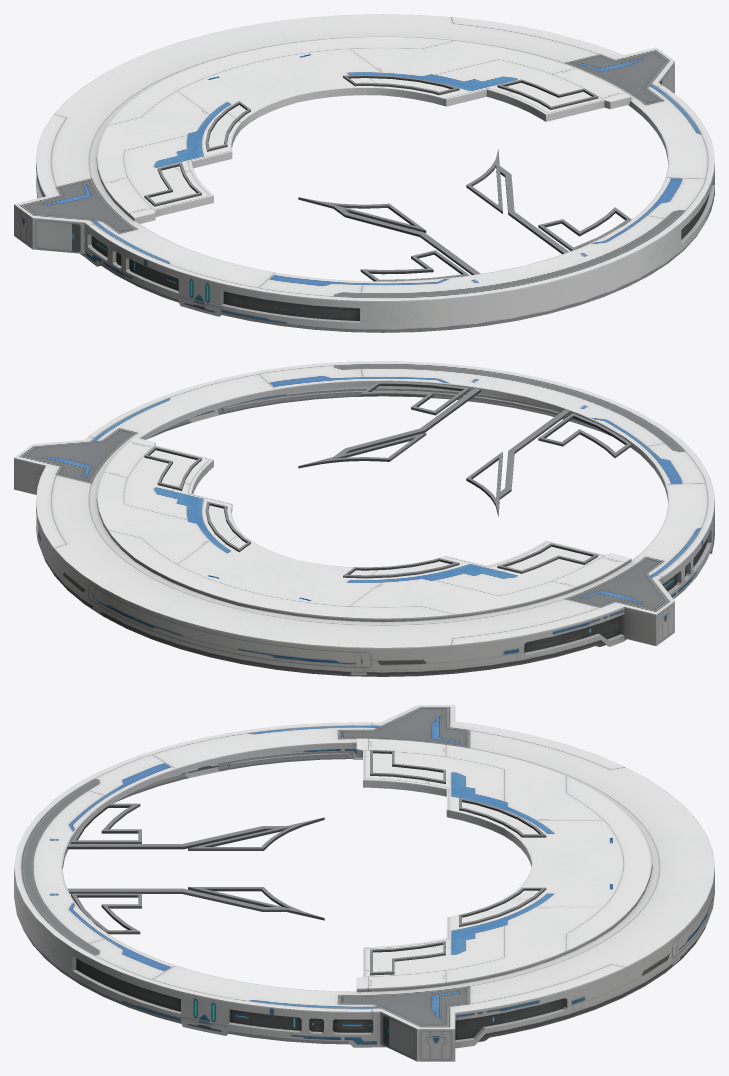
File: mesh_1002_sjzm_dibiao003.FBX
3 renders of one model, top to bottom at view 1: azimuth 30°, elevation 25°; view 2: azimuth 150°, elevation 25°; view 3: azimuth 270°, elevation 25°, orthographic. The views are drawn at different scales.
Visible parts, largest first — view 1: mesh_1002_sjzm_dibiao003; view 2: mesh_1002_sjzm_dibiao003; view 3: mesh_1002_sjzm_dibiao003.
Part boxes in pixels (x1,y1,x2,y2): mesh_1002_sjzm_dibiao003: (14,14,714,332); mesh_1002_sjzm_dibiao003: (14,361,714,676); mesh_1002_sjzm_dibiao003: (14,705,714,1061).
Bounding box in the file's own units: 3284 × 195 × 3008.
